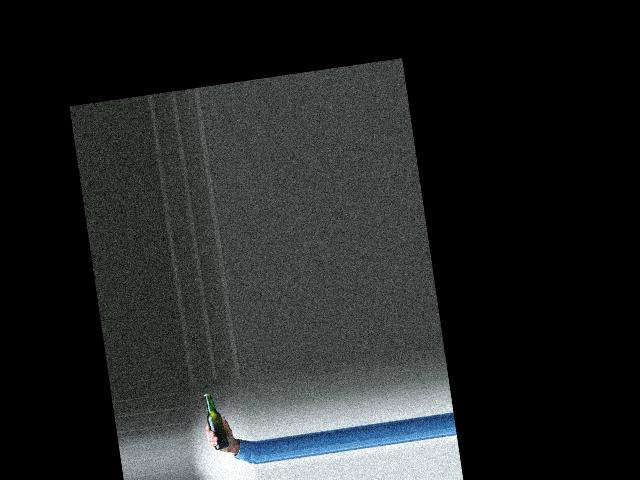beer: (203, 392, 230, 450)
